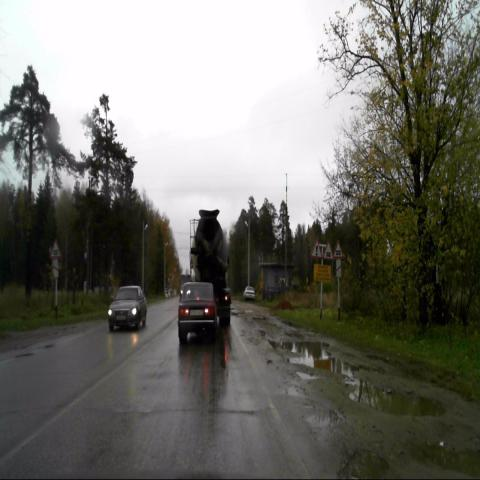1_1: (50, 238, 63, 258), (333, 238, 344, 258)
1_33: (310, 238, 322, 260)
